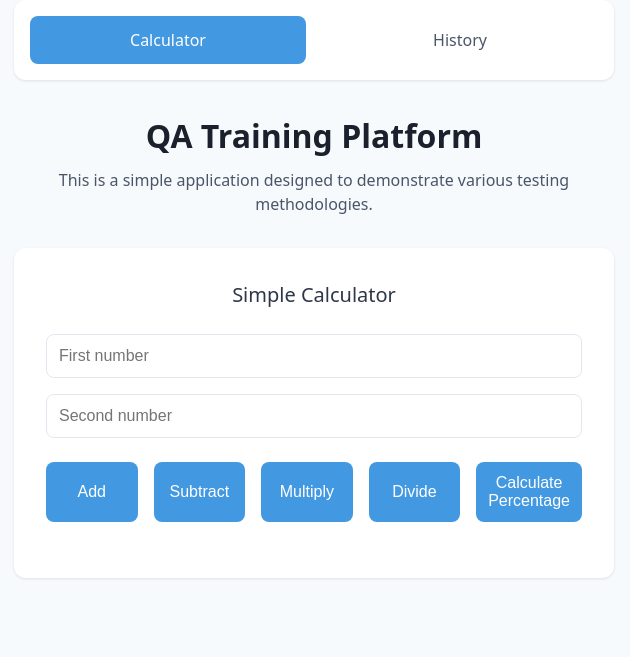
Test case: Calculator E2E Tests › should handle division by zero
This screenshot has width=630, height=657.
In the number field with test id "num1-input": [314, 356] box [46, 334, 582, 378], type "10"
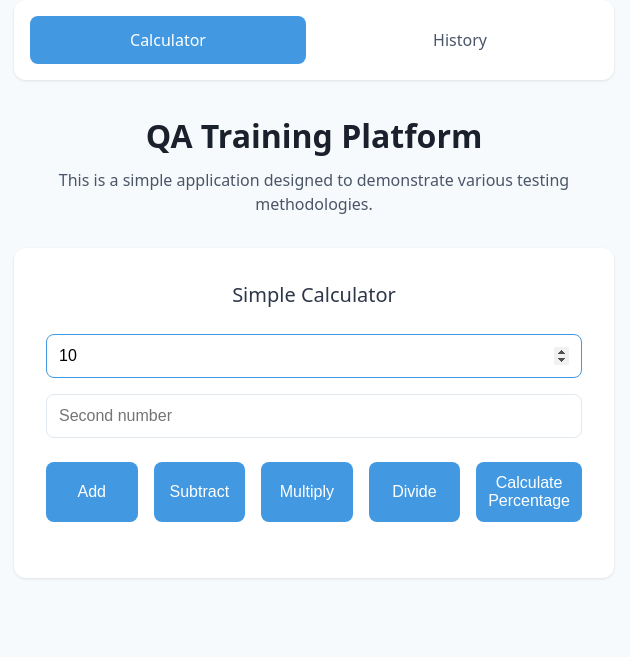
In the number field with test id "num2-input": [314, 416] box [46, 394, 582, 438], type "0"
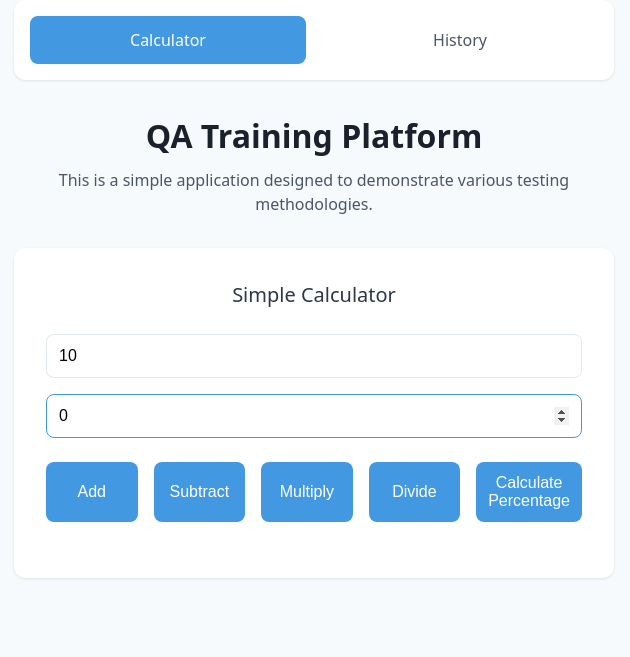
Click the button with test id "divide-button": [415, 492] box [369, 462, 461, 522]
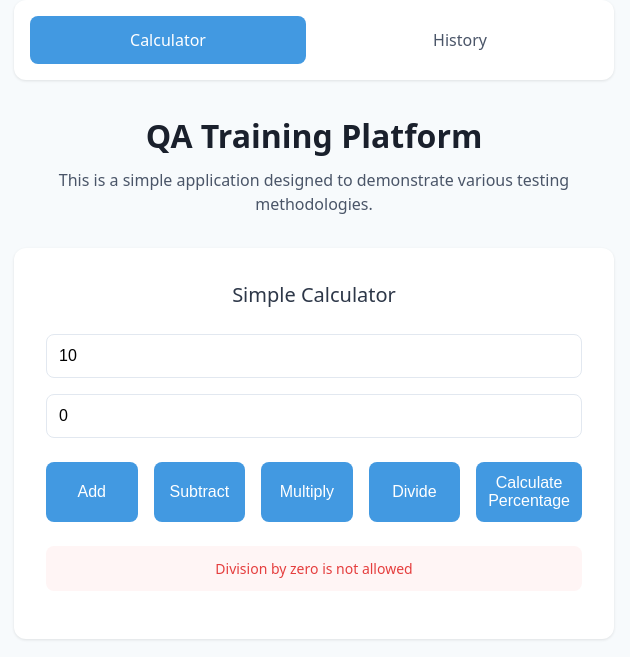
Expected: the text with test id "error-message" reads "Division by zero is not allowed", [215, 559, 412, 578]
